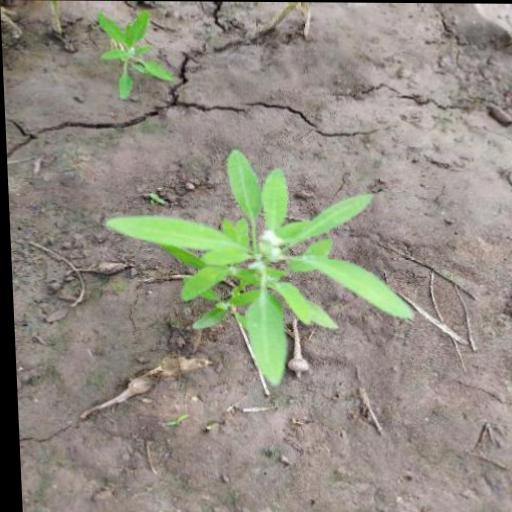weed: (102, 160, 416, 385), (94, 2, 169, 106)
